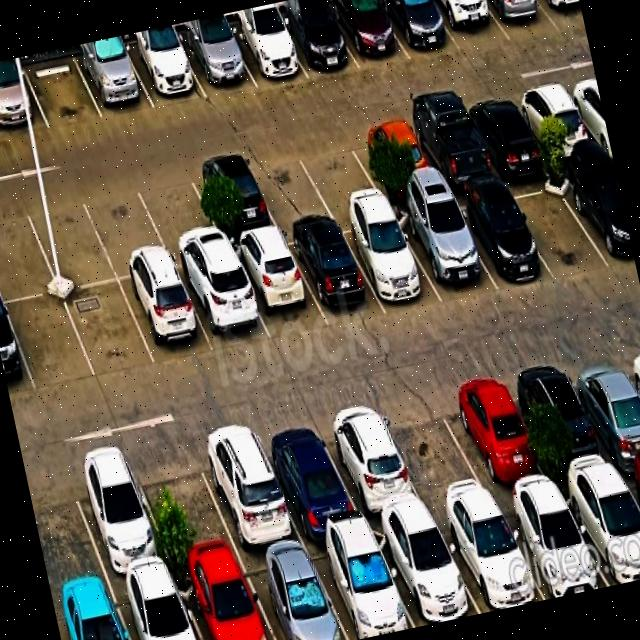empty: (372, 384, 494, 516), (127, 440, 240, 570), (501, 168, 611, 275), (25, 462, 108, 596), (133, 165, 229, 269), (22, 189, 118, 291), (81, 179, 174, 280), (63, 281, 156, 379), (5, 294, 95, 392), (243, 142, 333, 226), (293, 132, 384, 213), (22, 54, 103, 128), (0, 200, 58, 302)
occupied: (437, 371, 554, 501), (191, 421, 303, 556), (313, 399, 430, 524), (64, 450, 173, 582), (252, 414, 364, 541), (510, 357, 619, 486), (435, 504, 545, 613), (497, 491, 608, 599), (306, 531, 414, 640), (371, 520, 480, 627), (391, 199, 498, 303), (444, 187, 551, 290), (228, 232, 327, 342), (283, 220, 384, 326), (337, 210, 442, 311), (239, 547, 348, 640), (562, 347, 640, 472), (559, 473, 640, 585), (120, 270, 214, 366), (556, 158, 635, 268), (177, 260, 271, 352), (402, 106, 498, 192), (174, 559, 274, 640), (187, 153, 279, 241), (349, 119, 441, 198), (461, 93, 549, 173), (511, 82, 598, 160), (275, 4, 359, 78), (111, 572, 200, 640), (123, 37, 206, 109), (73, 45, 154, 118), (326, 0, 409, 70), (225, 18, 307, 87), (178, 28, 256, 97), (379, 0, 460, 59), (429, 0, 510, 53), (52, 585, 130, 640), (0, 64, 49, 138), (0, 300, 35, 398), (483, 0, 559, 40), (539, 0, 584, 29)
